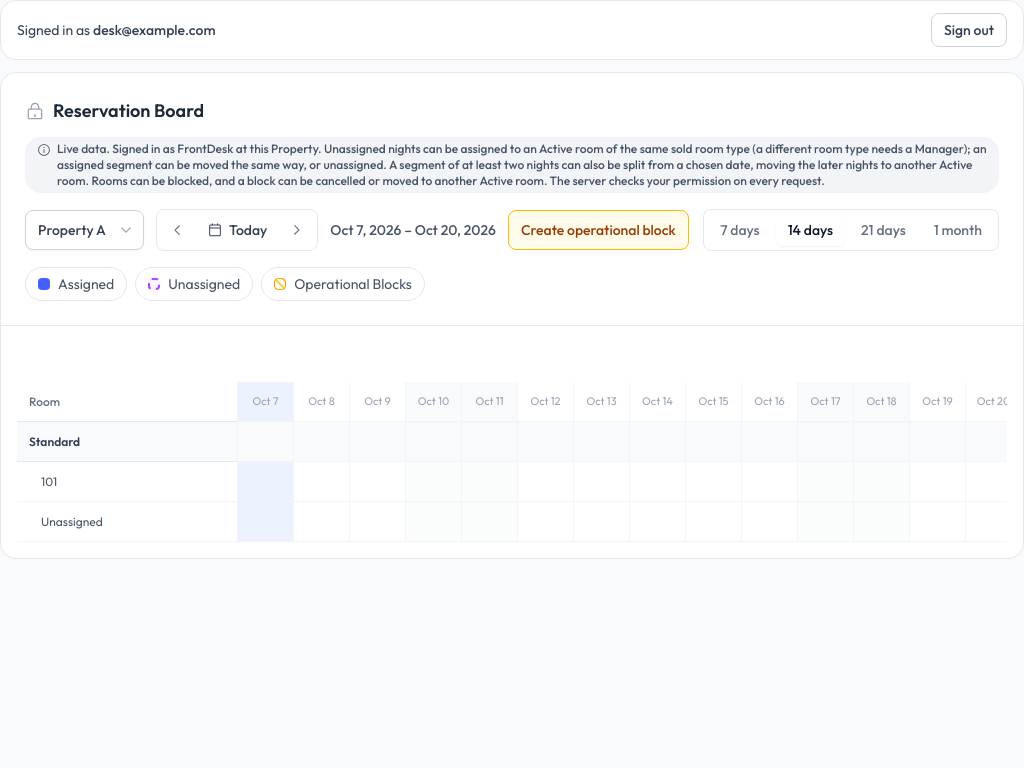
Test case: CalendarAccessGate › Sign out: a confirmed logout closes the board and goes to /signin
This screenshot has width=1024, height=768.
Click the button "Sign out": [969, 30] box [931,13,1007,47]
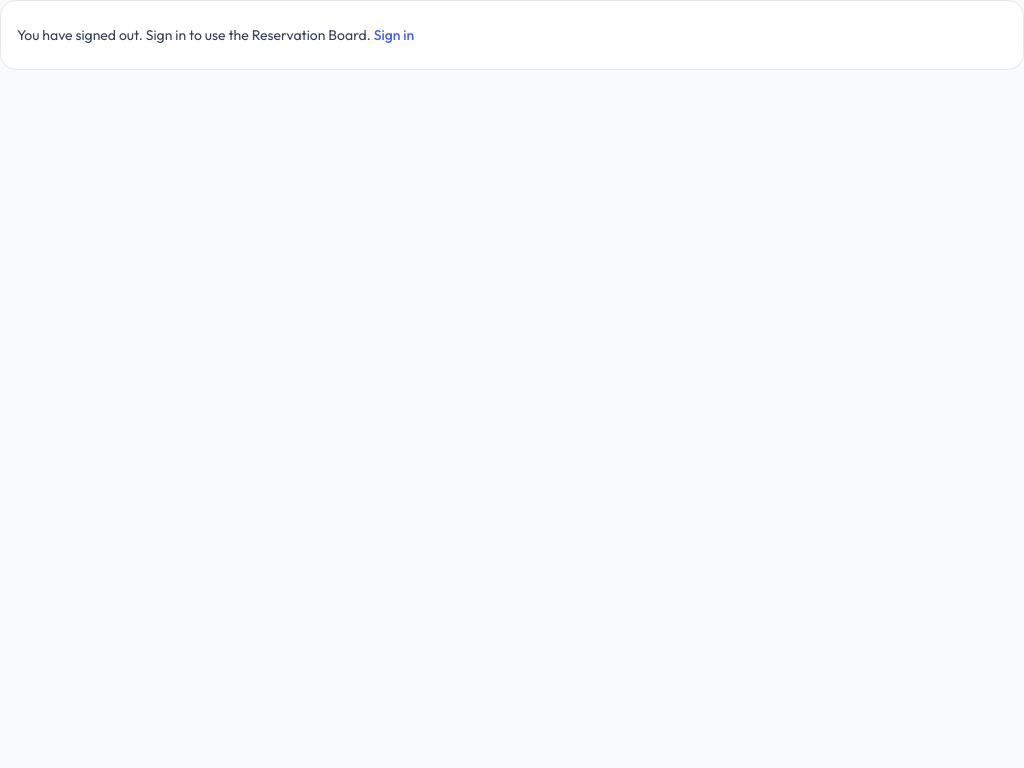
expect the element with test id "staff-identity" is gone: met
expect the message with test id "staff-session-required" shows "You have signed out.": met, box [17,26,146,44]
